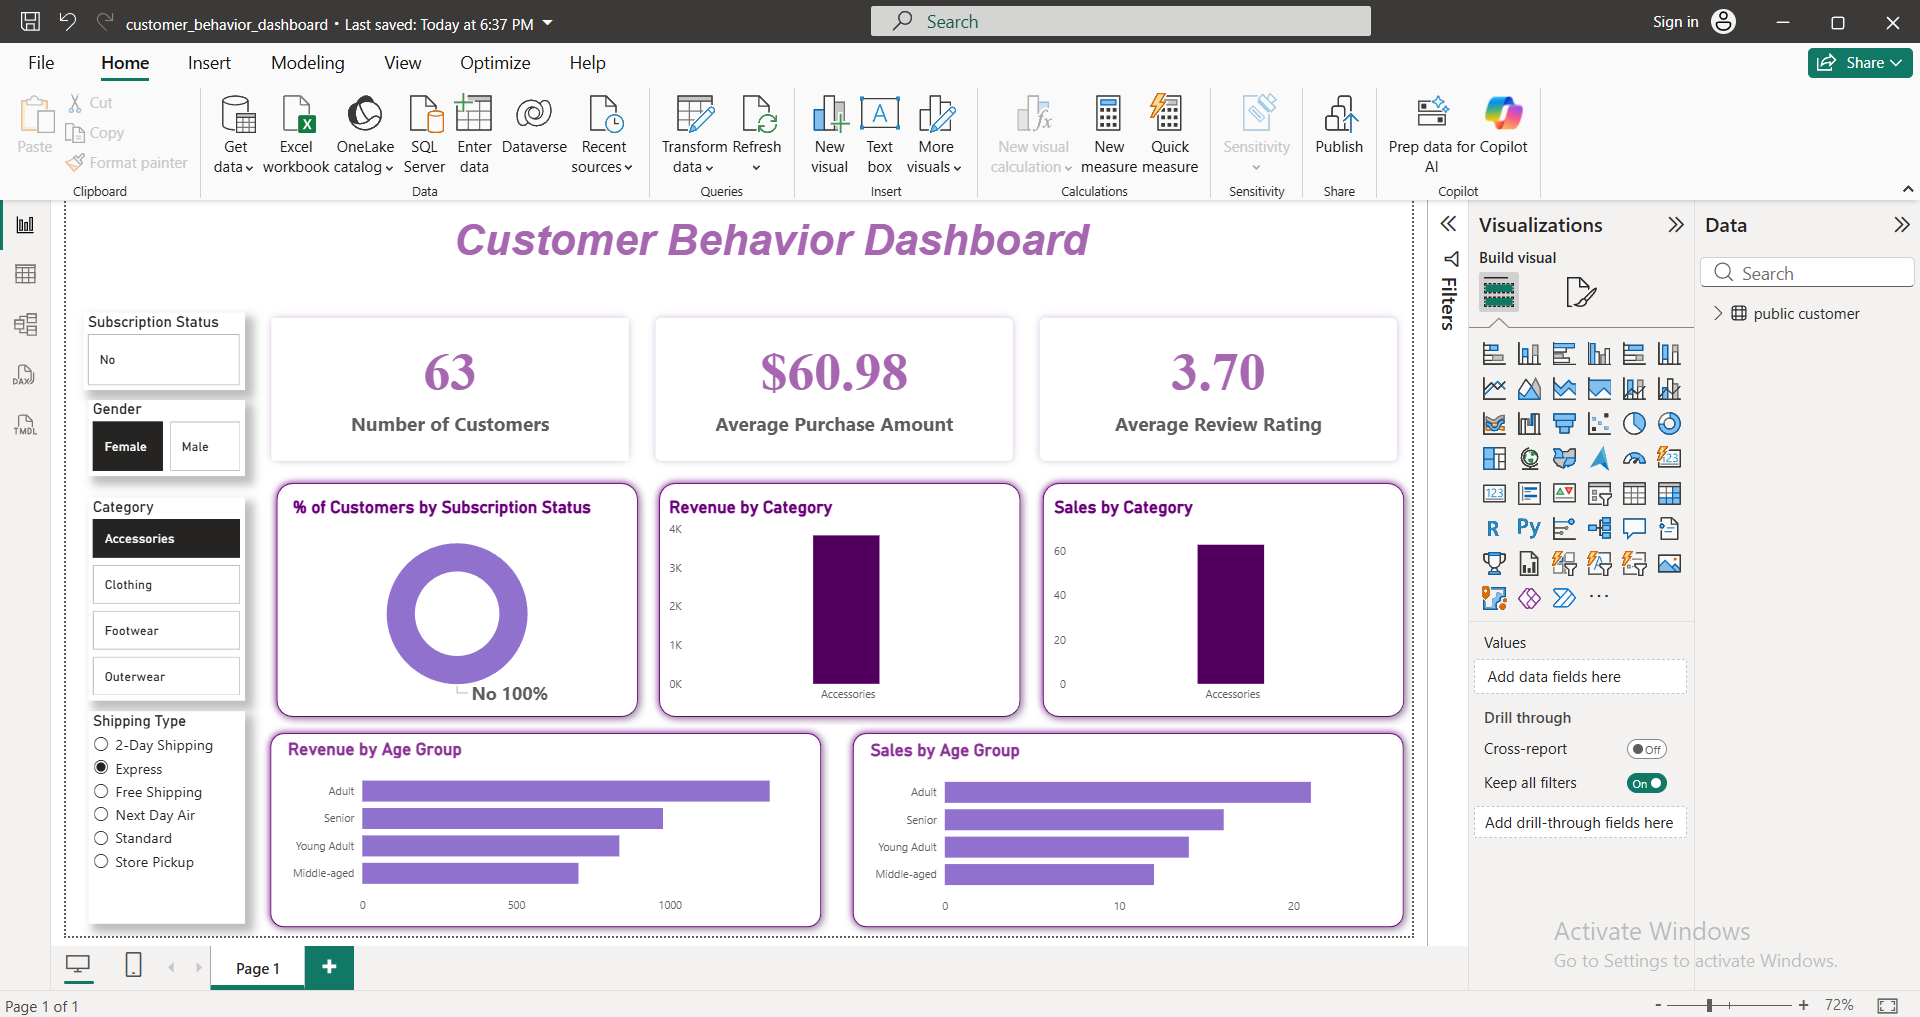

What the dashboard file says about the page in this screenshot:
{"tool":"powerbi","page":{"name":"Page 1","canvas":[1500,820],"ordinal":0},"visuals":[{"type":"cardVisual","fields":{"Data":["public customer.Number of Customers","public customer.Average Purchase Amount","public customer.Average Review Rating"]},"box":[212.9,115.3,1286.5,191.6],"z":2000},{"type":"shape","box":[218.3,585.6,631.7,234.2],"z":2500,"group":"g1"},{"type":"textbox","box":[0,12.8,1498.9,72.3],"z":4000},{"type":"shape","box":[225.4,307,420.5,278.6],"z":5000},{"type":"donutChart","title":"% of Customers by Subscription Status","fields":{"Category":["public customer.subscription_status"],"Y":["CountNonNull(public customer.customer_id)"]},"box":[248.4,331.8,376.2,237.8],"z":6000},{"type":"shape","box":[1078.9,307,420.5,278.6],"z":7000},{"type":"shape","box":[652.1,307,420.5,278.6],"z":8000},{"type":"clusteredColumnChart","title":"Revenue by Category","fields":{"Y":["Sum(public customer.purchase_amount)"],"Category":["public customer.category"]},"box":[667.2,331.8,385.1,237.8],"z":9000},{"type":"clusteredColumnChart","title":"Sales by Category","fields":{"Y":["CountNonNull(public customer.customer_id)"],"Category":["public customer.category"]},"box":[1096.6,331.8,385.1,237.8],"z":10000},{"type":"advancedSlicerVisual","fields":{"Values":["public customer.subscription_status"]},"box":[19.8,124.7,179.9,86.4],"z":12000},{"type":"advancedSlicerVisual","fields":{"Values":["public customer.gender"]},"box":[25.5,222.4,174.3,85],"z":13000},{"type":"advancedSlicerVisual","fields":{"Values":["public customer.category"]},"box":[25.5,331.5,174.3,226.7],"z":14000},{"type":"listSlicer","fields":{"Values":["public customer.shipping_type"]},"box":[25.5,569.5,174.3,236.6],"z":15000},{"type":"shape","box":[867.7,585.6,631.7,234.2],"z":16000},{"type":"clusteredBarChart","title":"Sales by Age Group","fields":{"Y":["CountNonNull(public customer.customer_id)"],"Category":["public customer.age_group"]},"box":[890.8,601.5,585.6,204.1],"z":17000},{"type":"clusteredBarChart","title":"Revenue by Age Group","fields":{"Y":["Sum(public customer.purchase_amount)"],"Category":["public customer.age_group"]},"box":[241.4,601.6,585.6,204.1],"z":17500,"group":"g1"},{"type":"group","id":"g1","title":"Group 1","box":[218.3,585.6,631.7,234.2],"z":17501}]}

Visuals, with their boxes on the page's 1500x820 design canvas (x1, y1, x2, y2). These are canvas units, not pixel positions in the 1920x1017 screenshot, which may show the page scaled, cropped or inside an application window:
cardVisual - public customer.Number of Customers x public customer.Average Purchase Amount: l=213, t=115, r=1499, b=307
shape: l=218, t=586, r=850, b=820
textbox: l=0, t=13, r=1499, b=85
shape: l=225, t=307, r=646, b=586
"% of Customers by Subscription Status" donutChart: l=248, t=332, r=625, b=570
shape: l=1079, t=307, r=1499, b=586
shape: l=652, t=307, r=1073, b=586
"Revenue by Category" clusteredColumnChart: l=667, t=332, r=1052, b=570
"Sales by Category" clusteredColumnChart: l=1097, t=332, r=1482, b=570
advancedSlicerVisual - public customer.subscription_status: l=20, t=125, r=200, b=211
advancedSlicerVisual - public customer.gender: l=26, t=222, r=200, b=307
advancedSlicerVisual - public customer.category: l=26, t=332, r=200, b=558
listSlicer - public customer.shipping_type: l=26, t=570, r=200, b=806
shape: l=868, t=586, r=1499, b=820
"Sales by Age Group" clusteredBarChart: l=891, t=602, r=1476, b=806
"Revenue by Age Group" clusteredBarChart: l=241, t=602, r=827, b=806
"Group 1" group: l=218, t=586, r=850, b=820
